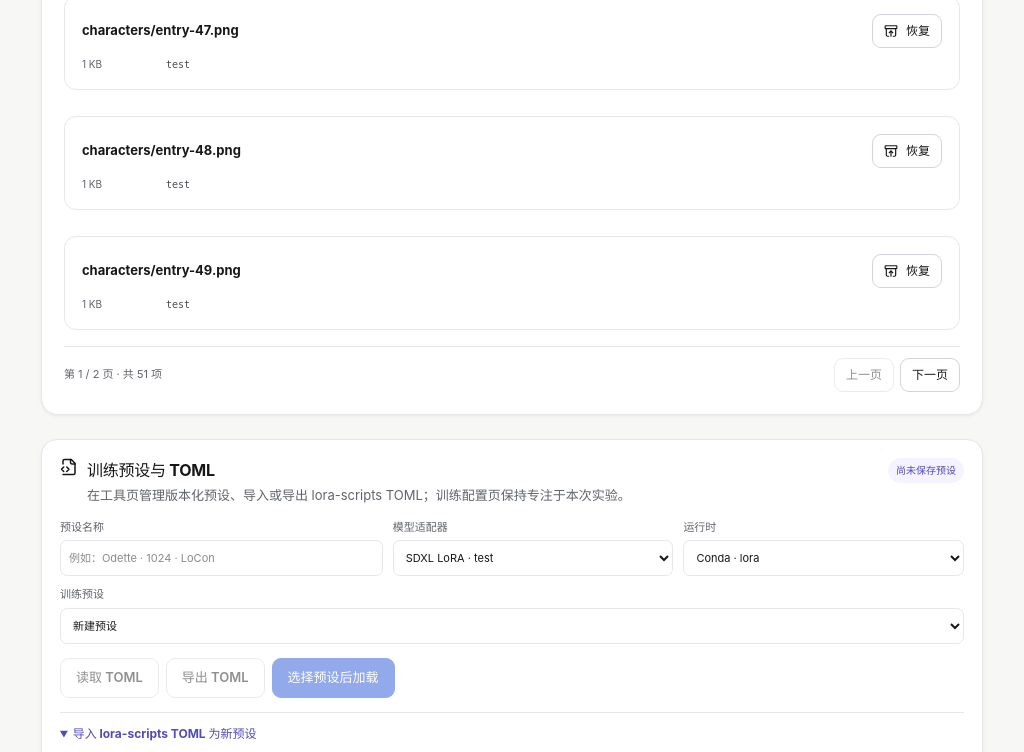
ToolsView media selection boundary › paginates a large quarantine instead of rendering every recoverable file at once
The width and height of the screenshot is (1024, 752).
(page scrolled)
Check: the text "characters/entry-50.png" is not shown
Check: the text "第 1 / 2 页 · 共 51 项" is shown, box [64,366,162,383]
Click the button "下一页" at (930, 375), box [900,358,960,392]
(page scrolled)
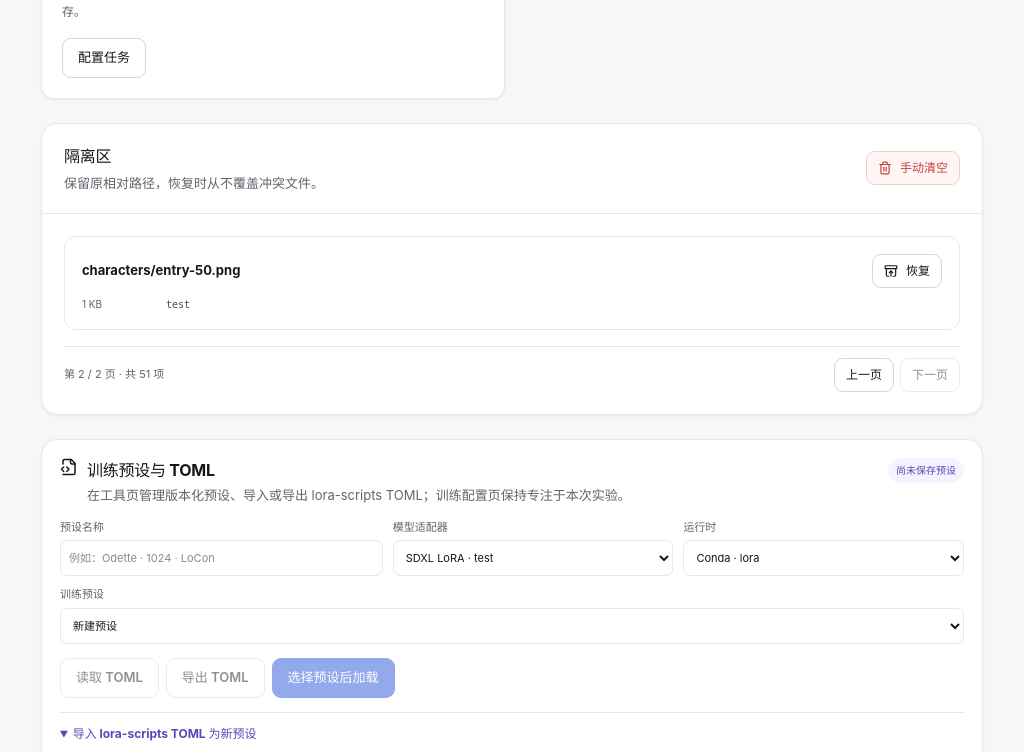
Check: the text "characters/entry-50.png" is shown, box [82,261,240,280]
